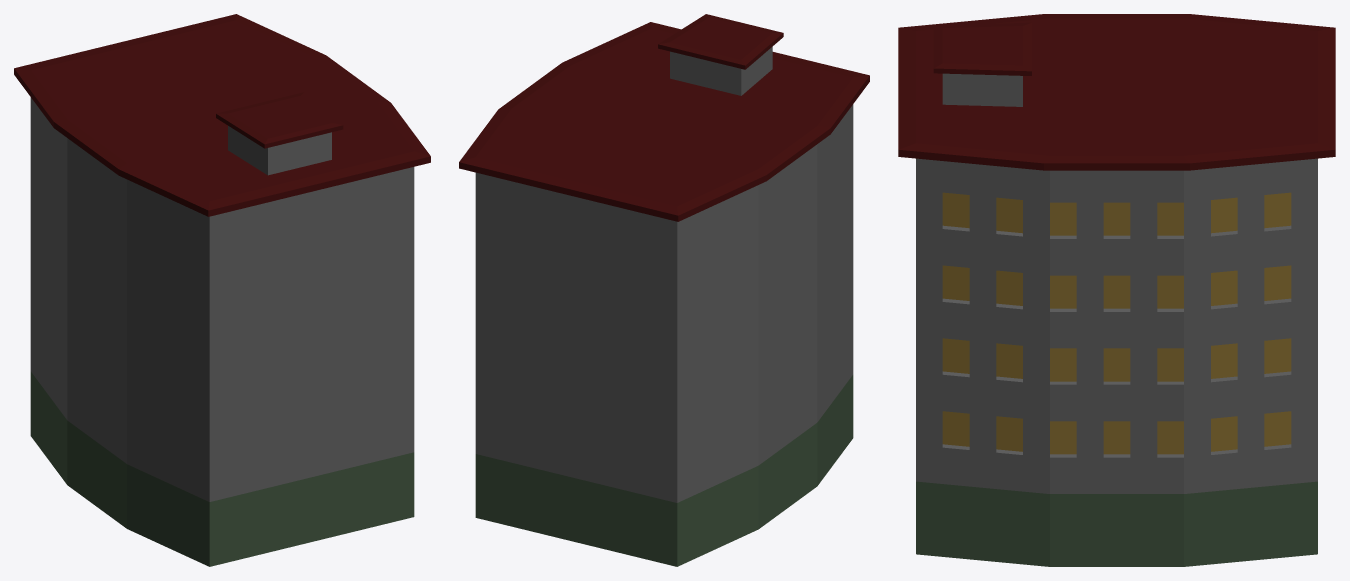
Rendered from homer.fbx.
3 views of the same model, side by side, from view 1: azimuth 30°, elevation 25°; view 2: azimuth 150°, elevation 25°; view 3: azimuth 270°, elevation 25° (orthographic). The views are drawn at different scales.
Parts seen in each view (by area): view 1: Cube; view 2: Cube; view 3: Cube.
Boxes of the visible parts, x1,y1,x2,y2 form: Cube: [14, 14, 430, 566]; Cube: [459, 14, 869, 566]; Cube: [898, 14, 1335, 566].
Bounding box in the file's own units: 1386 × 1957 × 1714.
